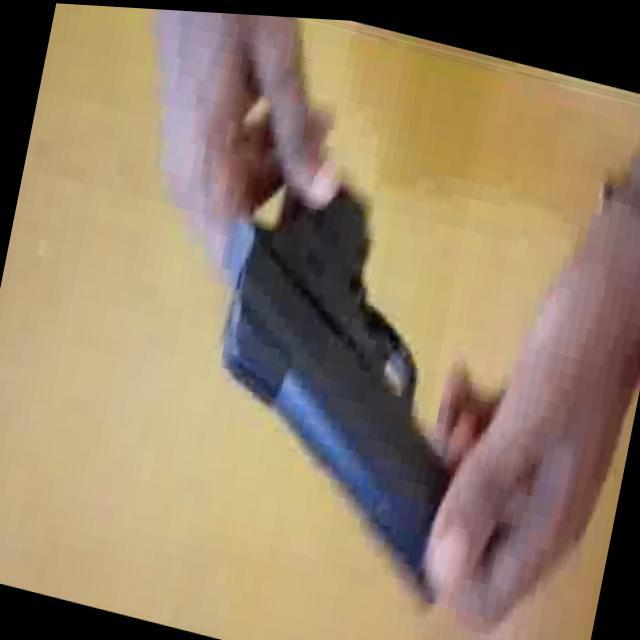weapon: (152, 68, 532, 601)
